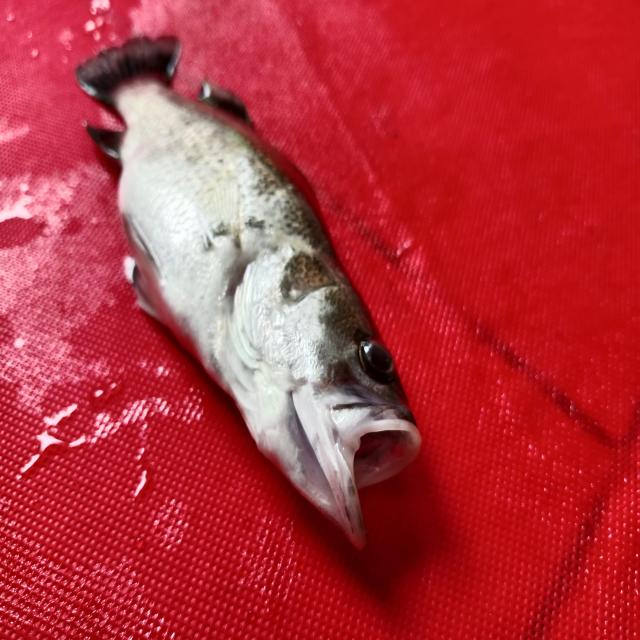ikan: (56, 32, 446, 562)
